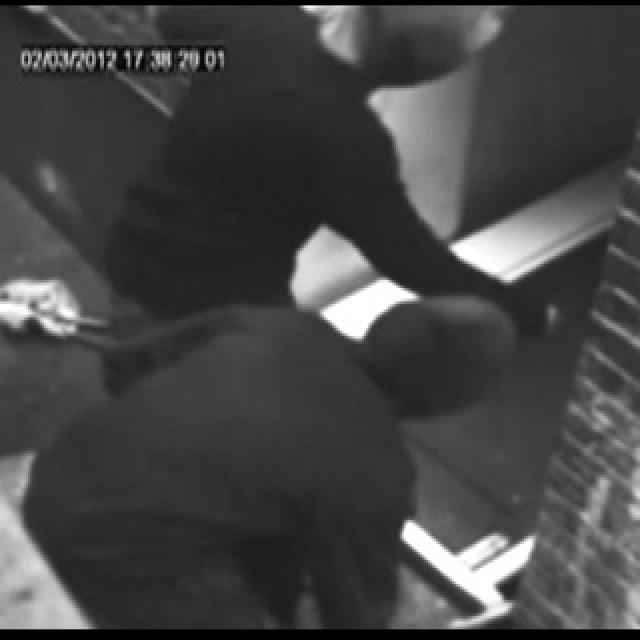thief: (291, 249, 508, 456), (280, 0, 503, 142)
